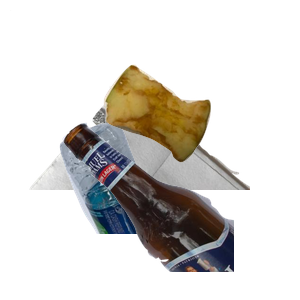glass: (60, 120, 300, 300)
paper: (10, 10, 250, 190)
plastic: (57, 120, 284, 300)
trash: (101, 62, 300, 217)
